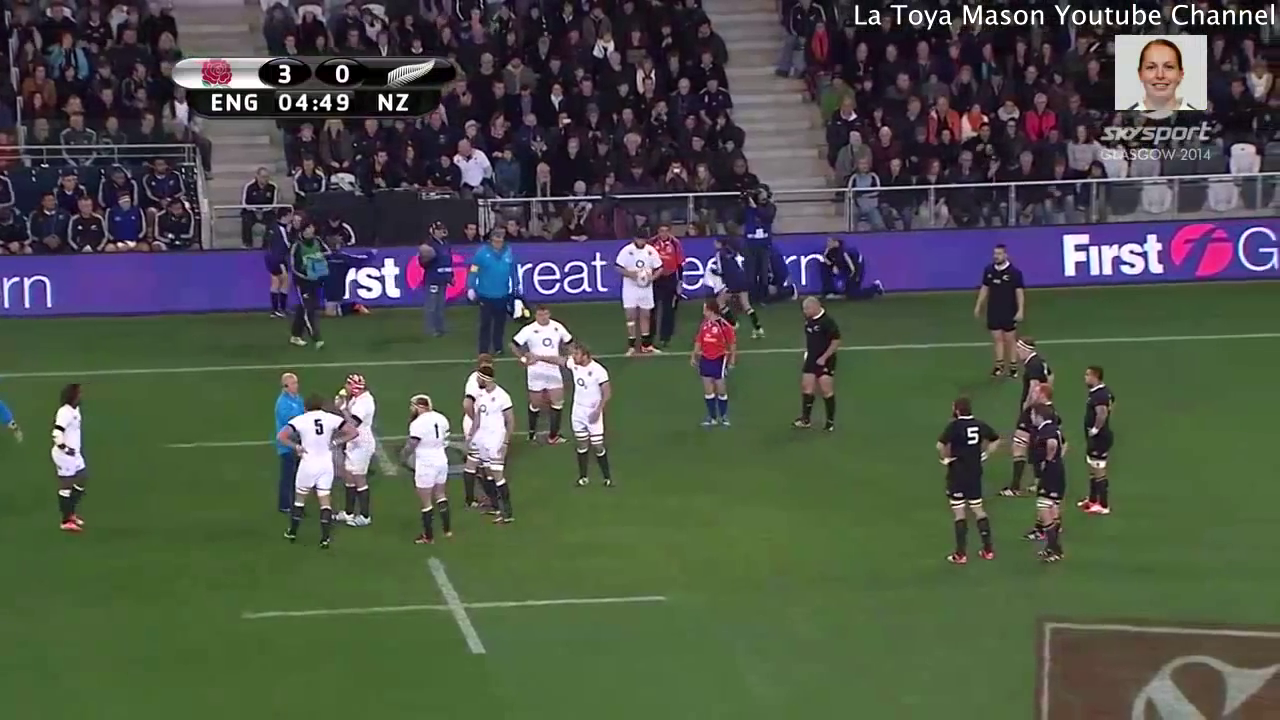ball: (633, 260, 655, 292)
player: (518, 334, 634, 498), (917, 385, 1005, 575), (270, 388, 348, 552), (503, 298, 575, 458), (1060, 356, 1126, 528), (394, 387, 464, 546), (461, 368, 522, 539), (256, 354, 312, 538), (1016, 395, 1073, 575), (678, 289, 746, 437), (785, 281, 847, 434), (1007, 336, 1063, 504), (969, 236, 1029, 391), (46, 371, 96, 546), (607, 223, 669, 363), (333, 372, 379, 540), (447, 340, 499, 446)
post: (231, 554, 690, 661), (159, 409, 599, 483)
